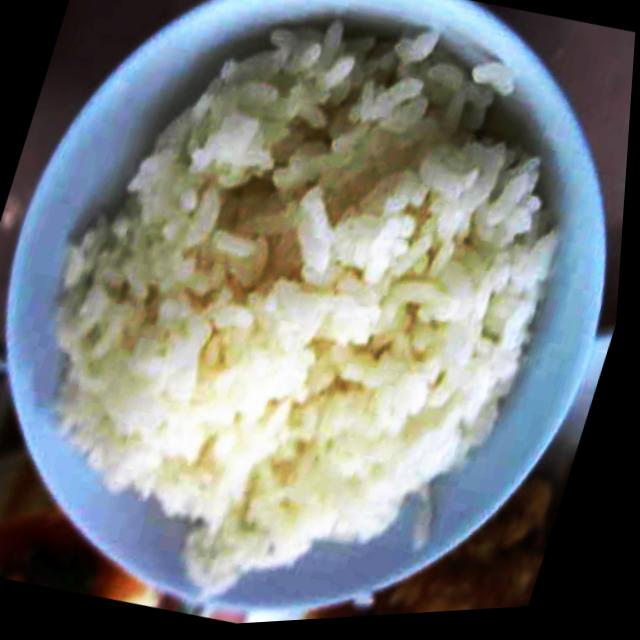rice: (0, 0, 627, 639)
